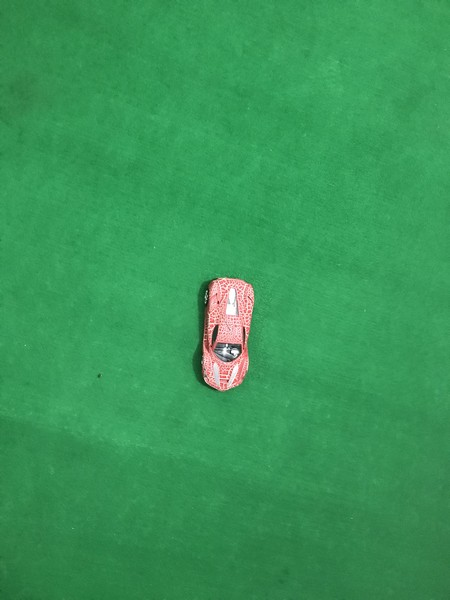RC: (194, 273, 256, 392)
